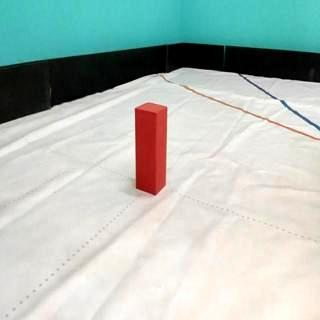redbox: (135, 100, 168, 196)
